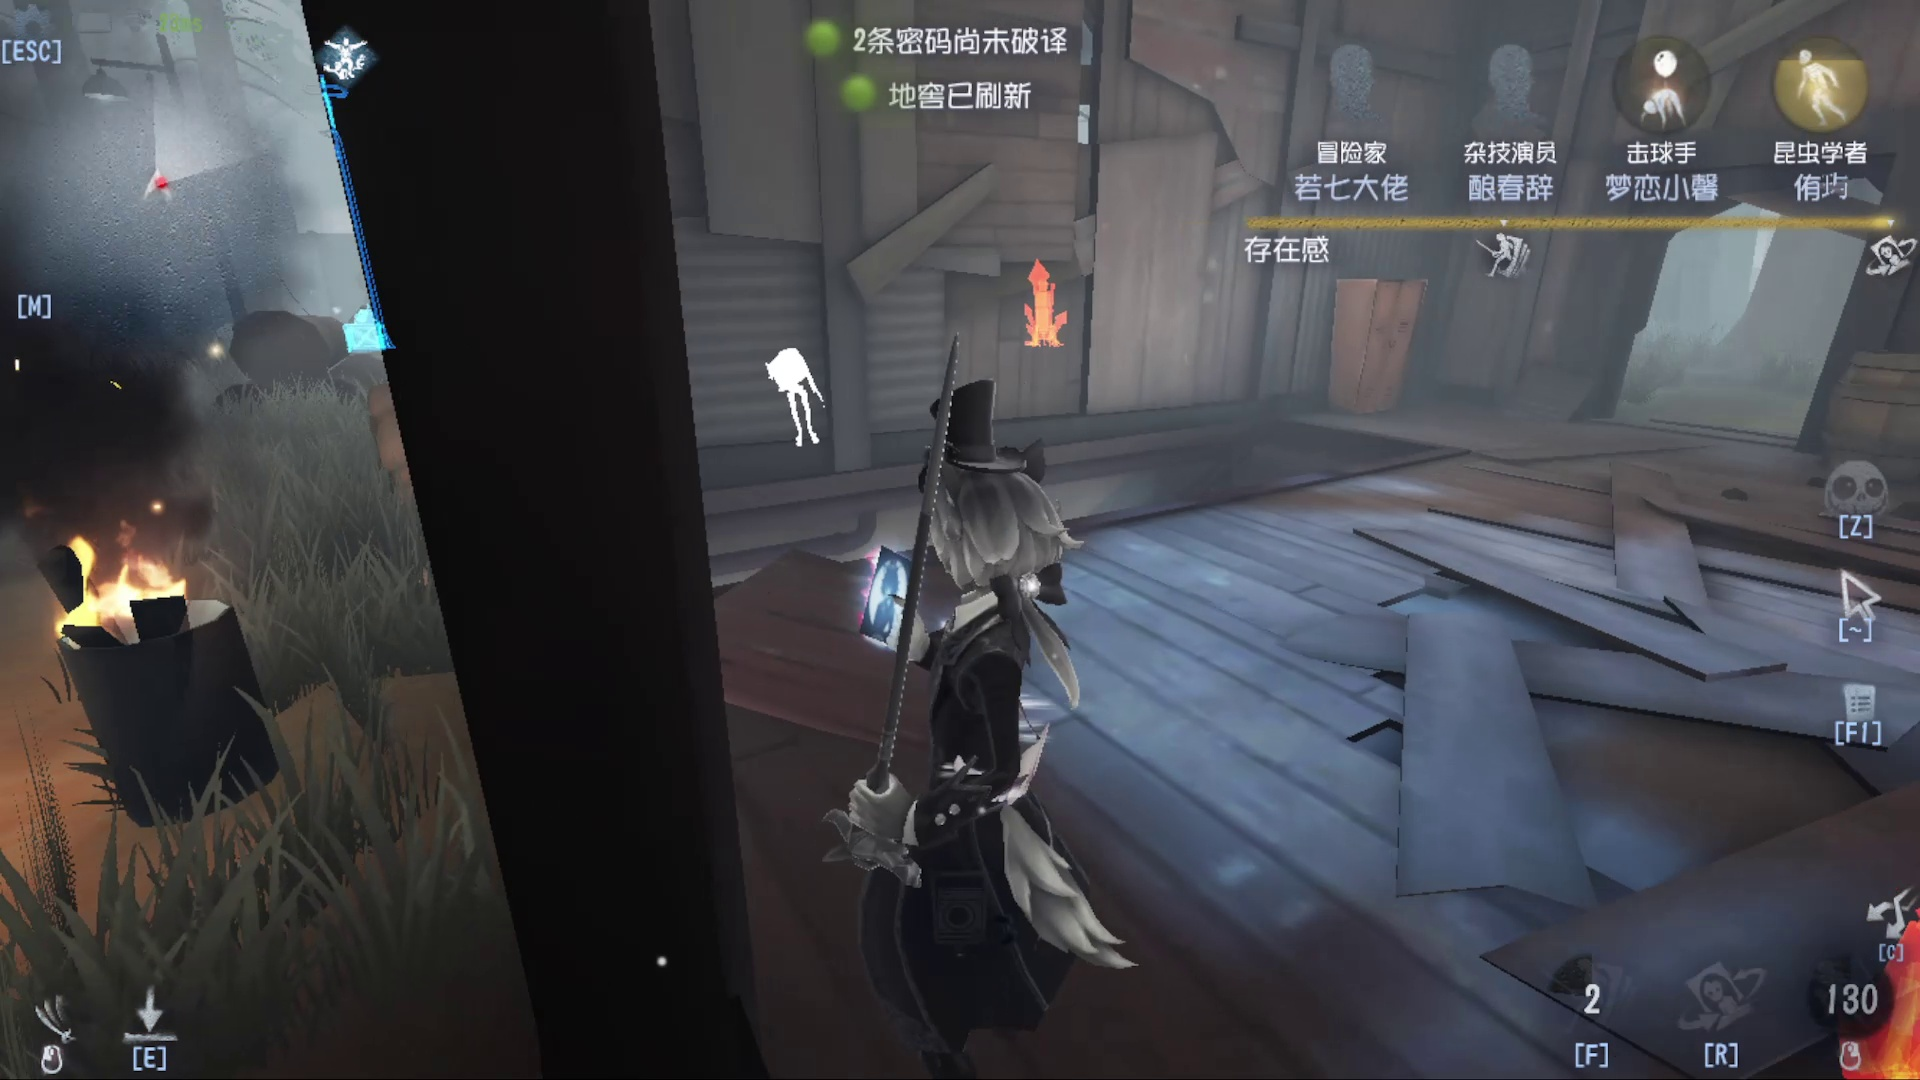密码机: (231, 65, 429, 369)
狂欢之椅: (992, 247, 1076, 371)
